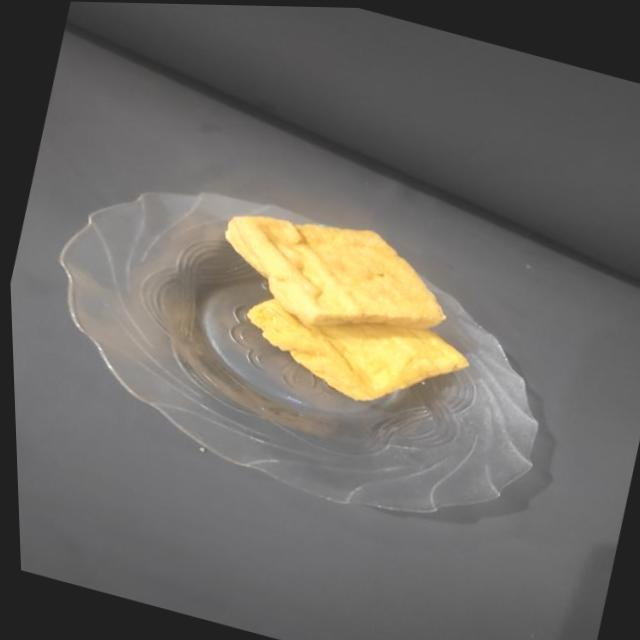tahu_goreng: (225, 215, 444, 328), (247, 298, 468, 400)
